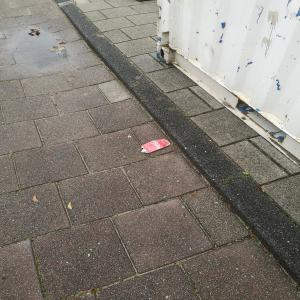Can: (138, 138, 175, 157)
